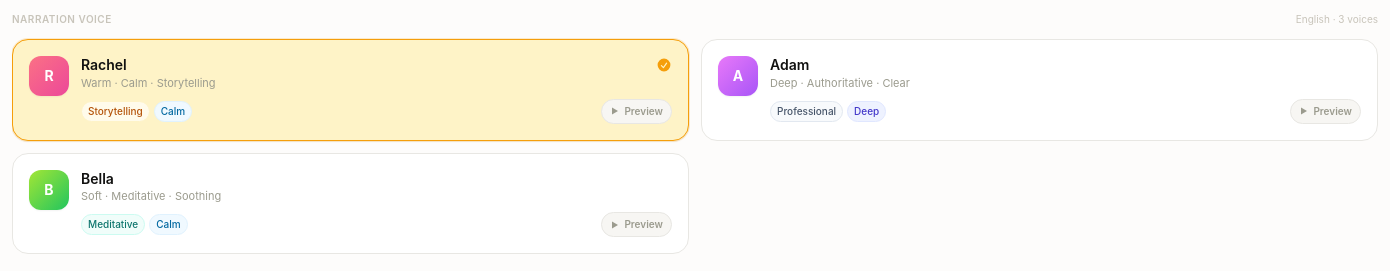
it: VoicePicker › shows Generating… while preview is loading
Click the button with aria-label "preview rachel" at (637, 111), box [601,99,672,124]
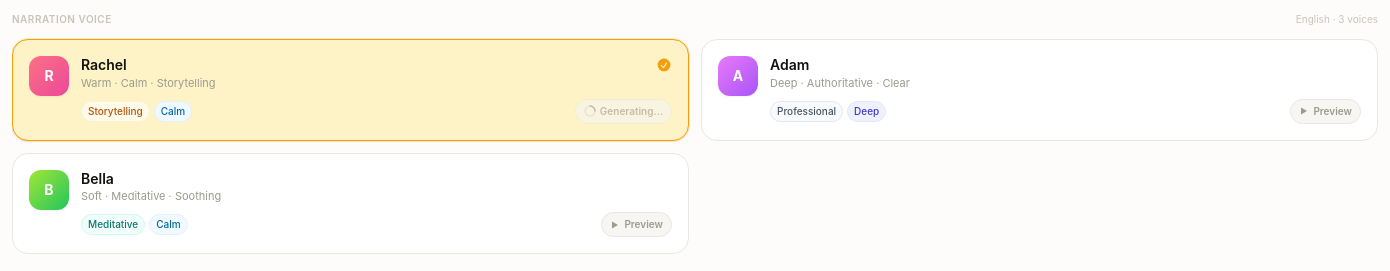
Now the button "Generating…" is shown, box [575,99,672,124]
